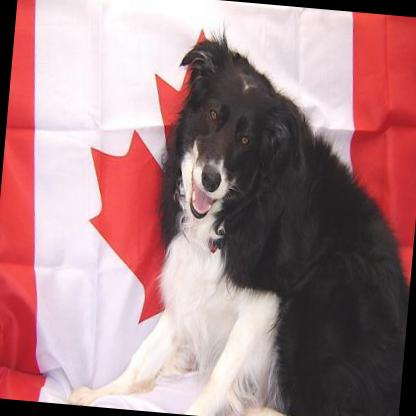Border_collie: (64, 10, 416, 416)
